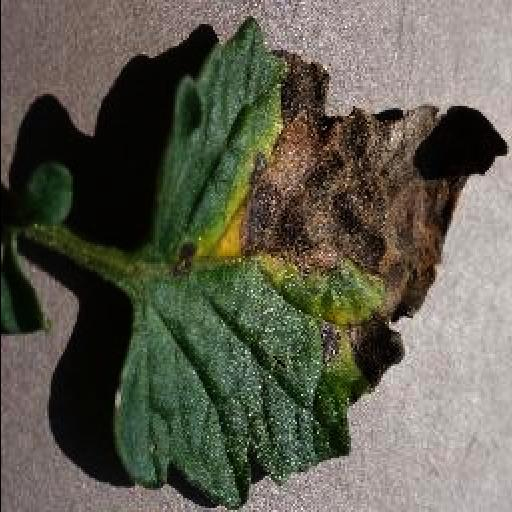disease_tomato: (110, 24, 506, 506)
